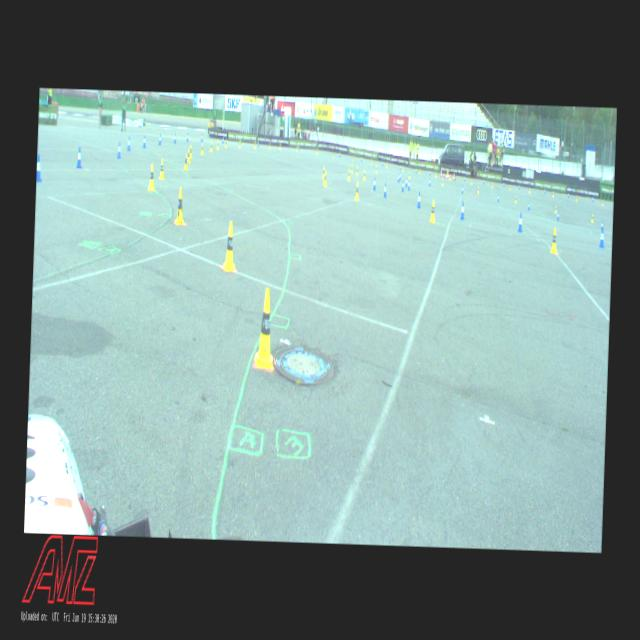blue_cone: (36, 154, 41, 182), (76, 146, 82, 168), (517, 212, 523, 232), (598, 229, 604, 247), (416, 192, 422, 208), (382, 182, 387, 197), (460, 201, 464, 219), (116, 141, 120, 158), (127, 134, 130, 150), (142, 134, 145, 148), (373, 177, 376, 190), (600, 221, 604, 230), (173, 132, 176, 142), (402, 180, 404, 192), (428, 178, 431, 185), (158, 134, 160, 144), (557, 210, 559, 220), (408, 180, 410, 190), (405, 177, 407, 187), (527, 200, 529, 210), (497, 193, 499, 202), (397, 173, 399, 182), (461, 185, 463, 194), (399, 171, 401, 180), (186, 132, 188, 140), (200, 133, 202, 140), (221, 136, 223, 142)
yellow_cone: (254, 287, 275, 371), (222, 222, 238, 272), (174, 187, 186, 224), (550, 227, 558, 254), (148, 163, 155, 190), (430, 200, 436, 222), (158, 159, 164, 179), (354, 181, 359, 199), (184, 153, 188, 169), (323, 170, 327, 186), (187, 148, 190, 162), (362, 170, 366, 180), (200, 143, 203, 154), (224, 138, 227, 148), (347, 170, 350, 180), (190, 144, 192, 157), (322, 166, 324, 178), (590, 214, 593, 222), (253, 140, 256, 148), (210, 141, 212, 152), (216, 140, 218, 150), (356, 166, 358, 175), (554, 204, 556, 213), (514, 195, 516, 203), (408, 170, 410, 178), (238, 140, 240, 148), (350, 164, 352, 172), (268, 141, 270, 149), (476, 186, 478, 193), (442, 178, 444, 185)
